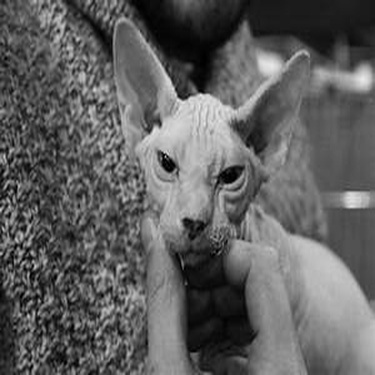cat: (107, 15, 370, 367)
